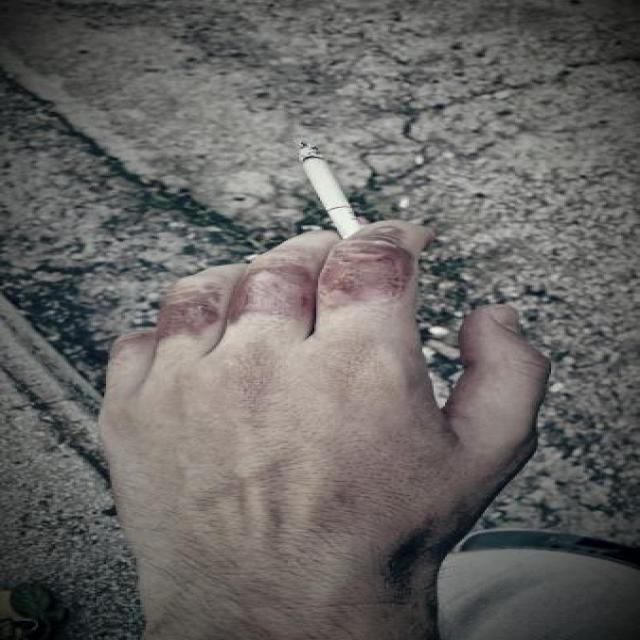cigarette: (290, 140, 366, 230)
